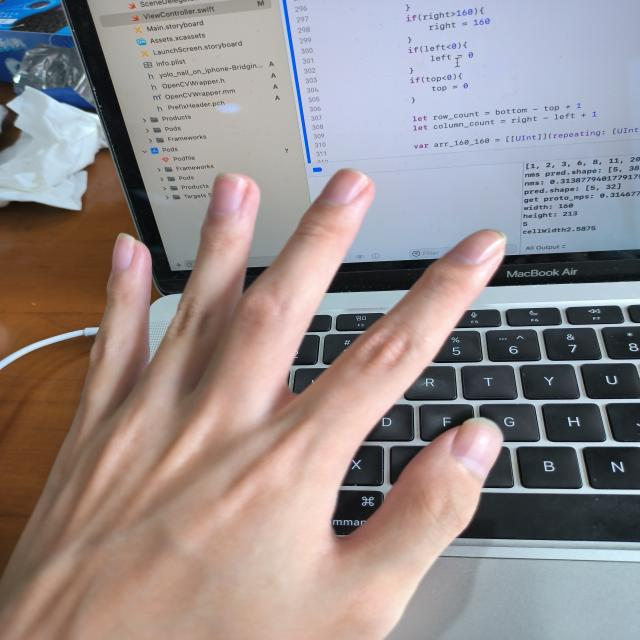Nail: (449, 419, 504, 478), (449, 229, 507, 265), (319, 168, 368, 206), (209, 172, 247, 216), (113, 233, 135, 274)
